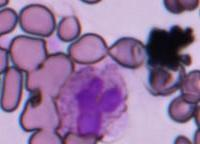E: (55, 62, 128, 140)
